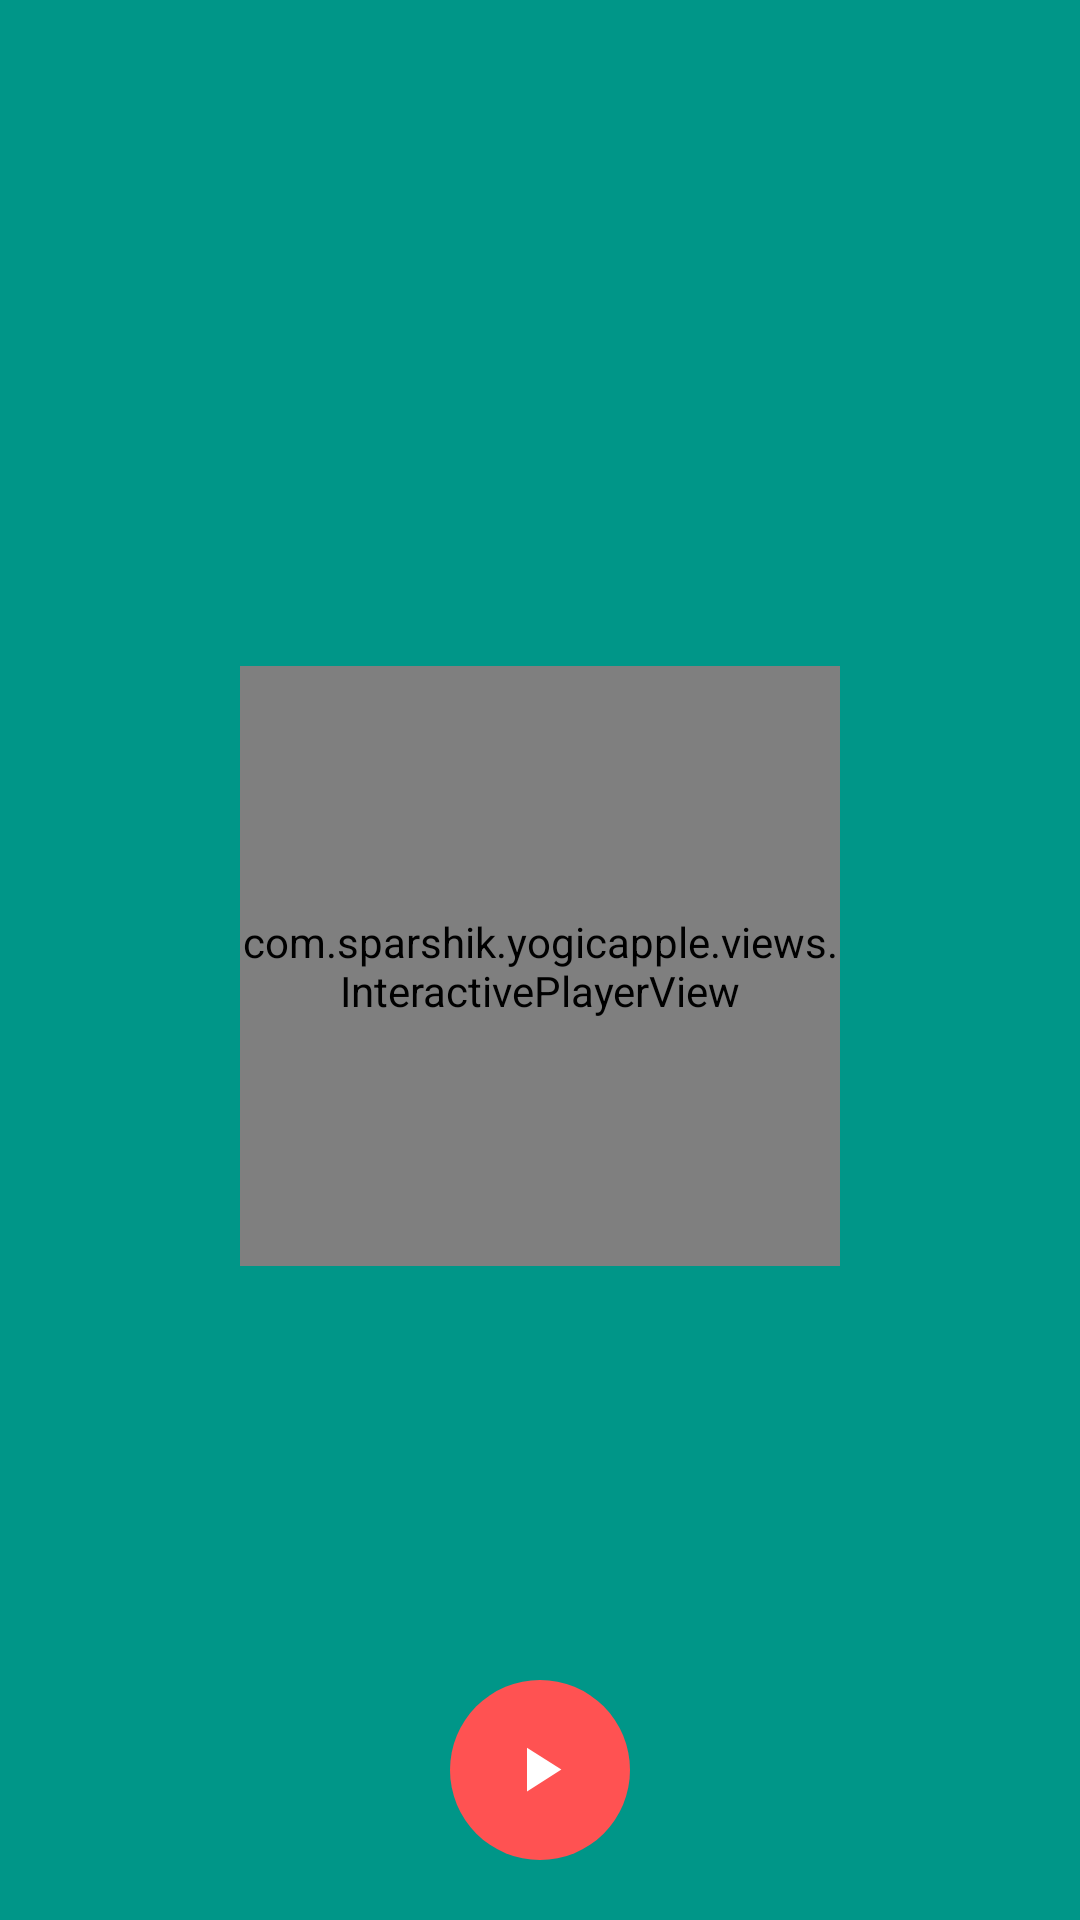

Icon click points for this 1080px x 1920px phone screenshot, format point (x, y):
Player Control: point (544, 1770)
